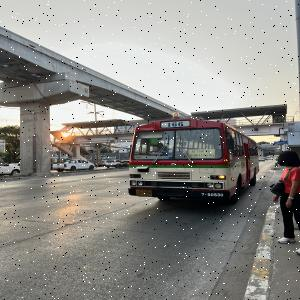BMTA-bus: (128, 116, 259, 205)
Bus Line Number: (163, 120, 187, 128)
Bus Side Number: (199, 192, 225, 197)
Destination Sign: (188, 150, 216, 159)
